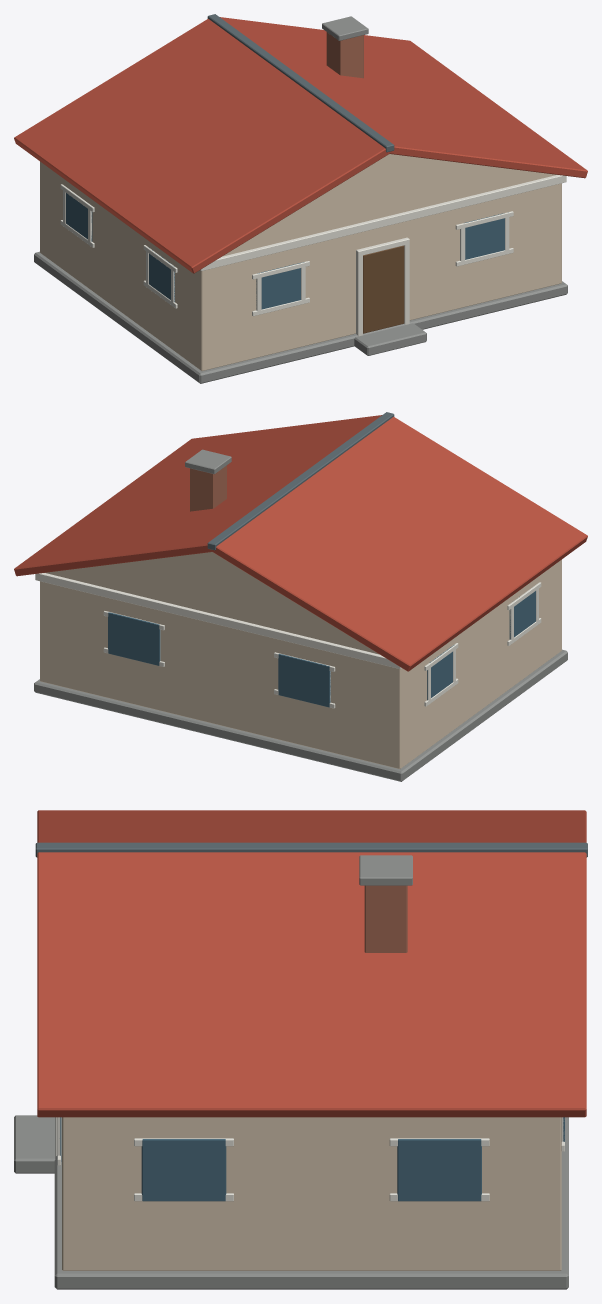
File: normal_house_1.glb
3 views of the same model, one above another, from view 1: azimuth 30°, elevation 25°; view 2: azimuth 150°, elevation 25°; view 3: azimuth 270°, elevation 25° (orthographic). The views are drawn at different scales.
Visible parts, largest first — view 1: FTF_House_OneStory_RoofBrickRed_Mesh; view 2: FTF_House_OneStory_RoofBrickRed_Mesh; view 3: FTF_House_OneStory_RoofBrickRed_Mesh.
Part boxes in pixels (x1,y1,x2,y2): FTF_House_OneStory_RoofBrickRed_Mesh: [14, 14, 587, 383]; FTF_House_OneStory_RoofBrickRed_Mesh: [14, 412, 587, 781]; FTF_House_OneStory_RoofBrickRed_Mesh: [14, 810, 587, 1289].
Size of the model in its own units: 11.89 by 6.26 by 9.66.
